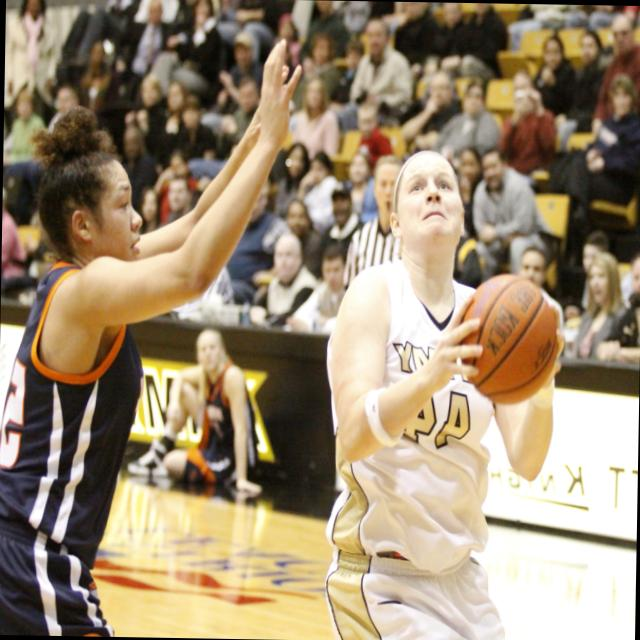Ball: (458, 270, 556, 404)
